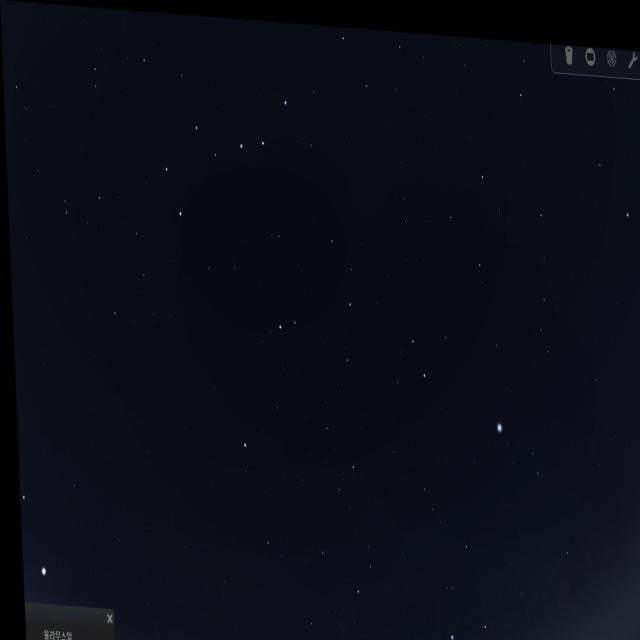lyra: (486, 404, 544, 494)
ursa_major: (150, 74, 301, 224)
